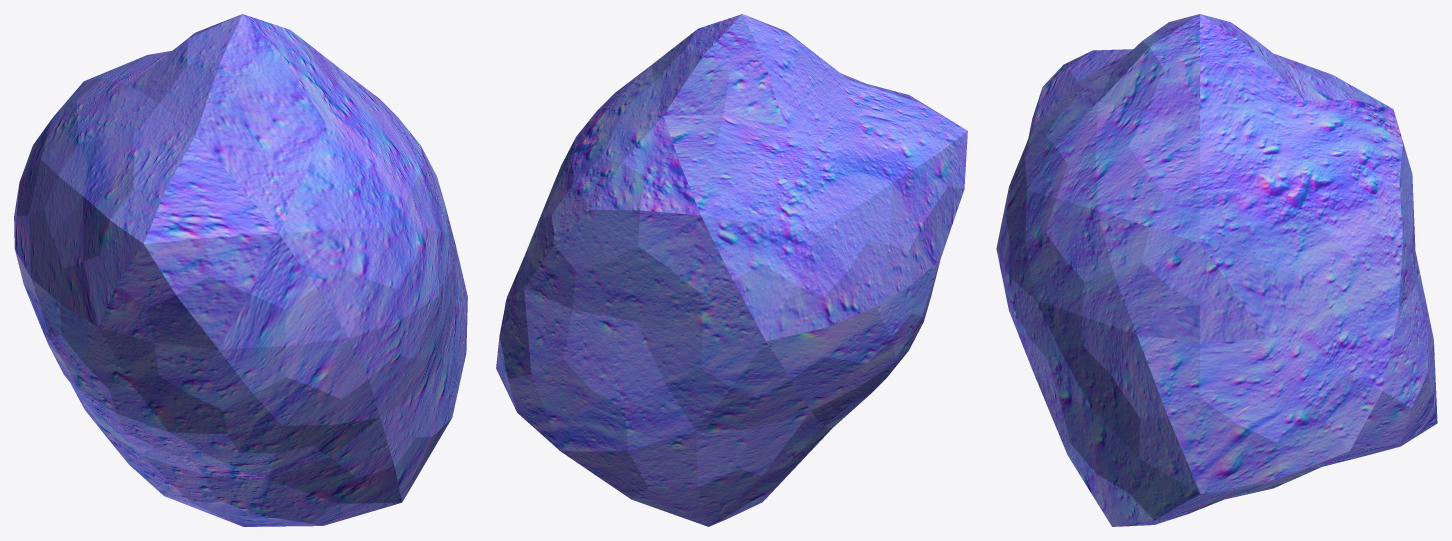
Rendered from mediumasteroid2_LOD3.fbx.
3 renders of one model, left to right at view 1: azimuth 30°, elevation 25°; view 2: azimuth 150°, elevation 25°; view 3: azimuth 270°, elevation 25°, orthographic. The views are drawn at different scales.
Parts seen in each view (by area): view 1: Icosphere; view 2: Icosphere; view 3: Icosphere.
Boxes of the visible parts, x1,y1,x2,y2 form: Icosphere: (14,14,467,526); Icosphere: (496,14,967,526); Icosphere: (996,14,1437,526).
Size of the model in its own units: 209 by 253 by 206.
